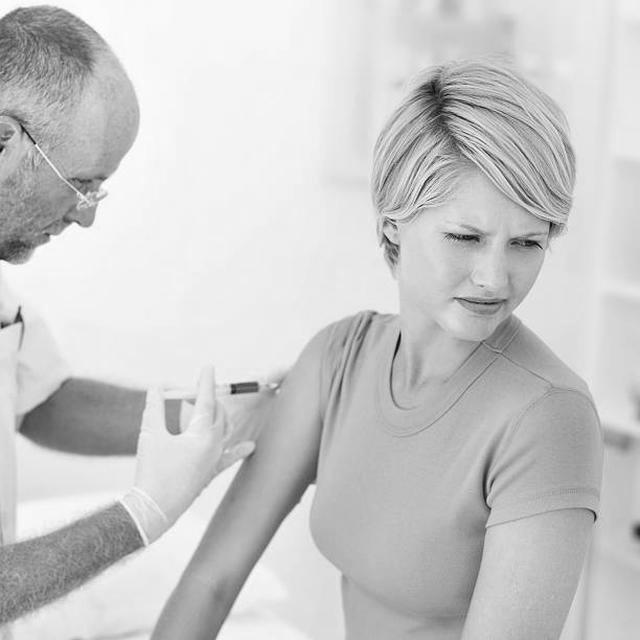Fear: (430, 179, 550, 341)
